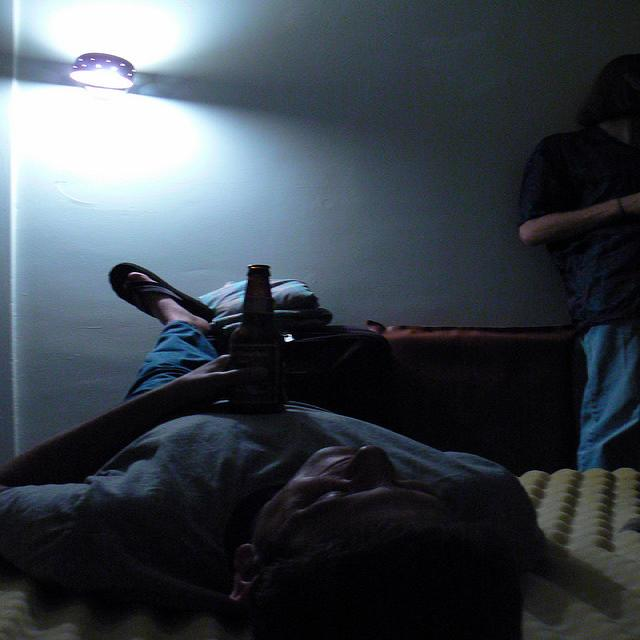Bottle: (212, 259, 298, 411)
People: (0, 246, 555, 633), (508, 45, 640, 478)
